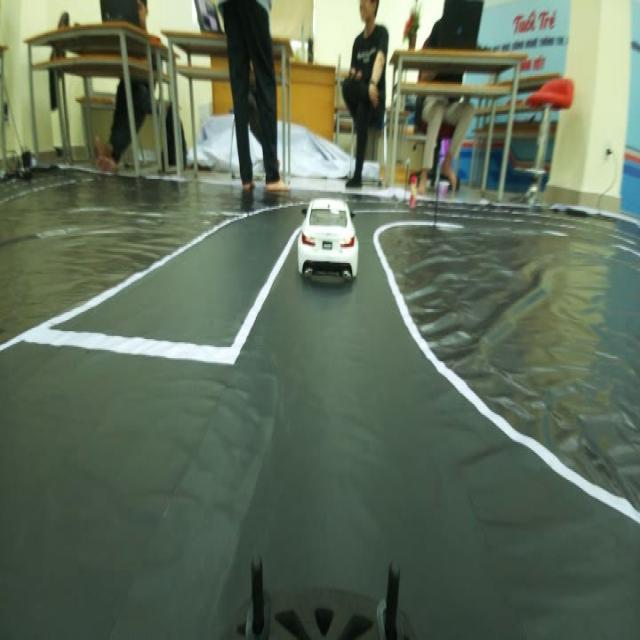car: (291, 173, 362, 285)
